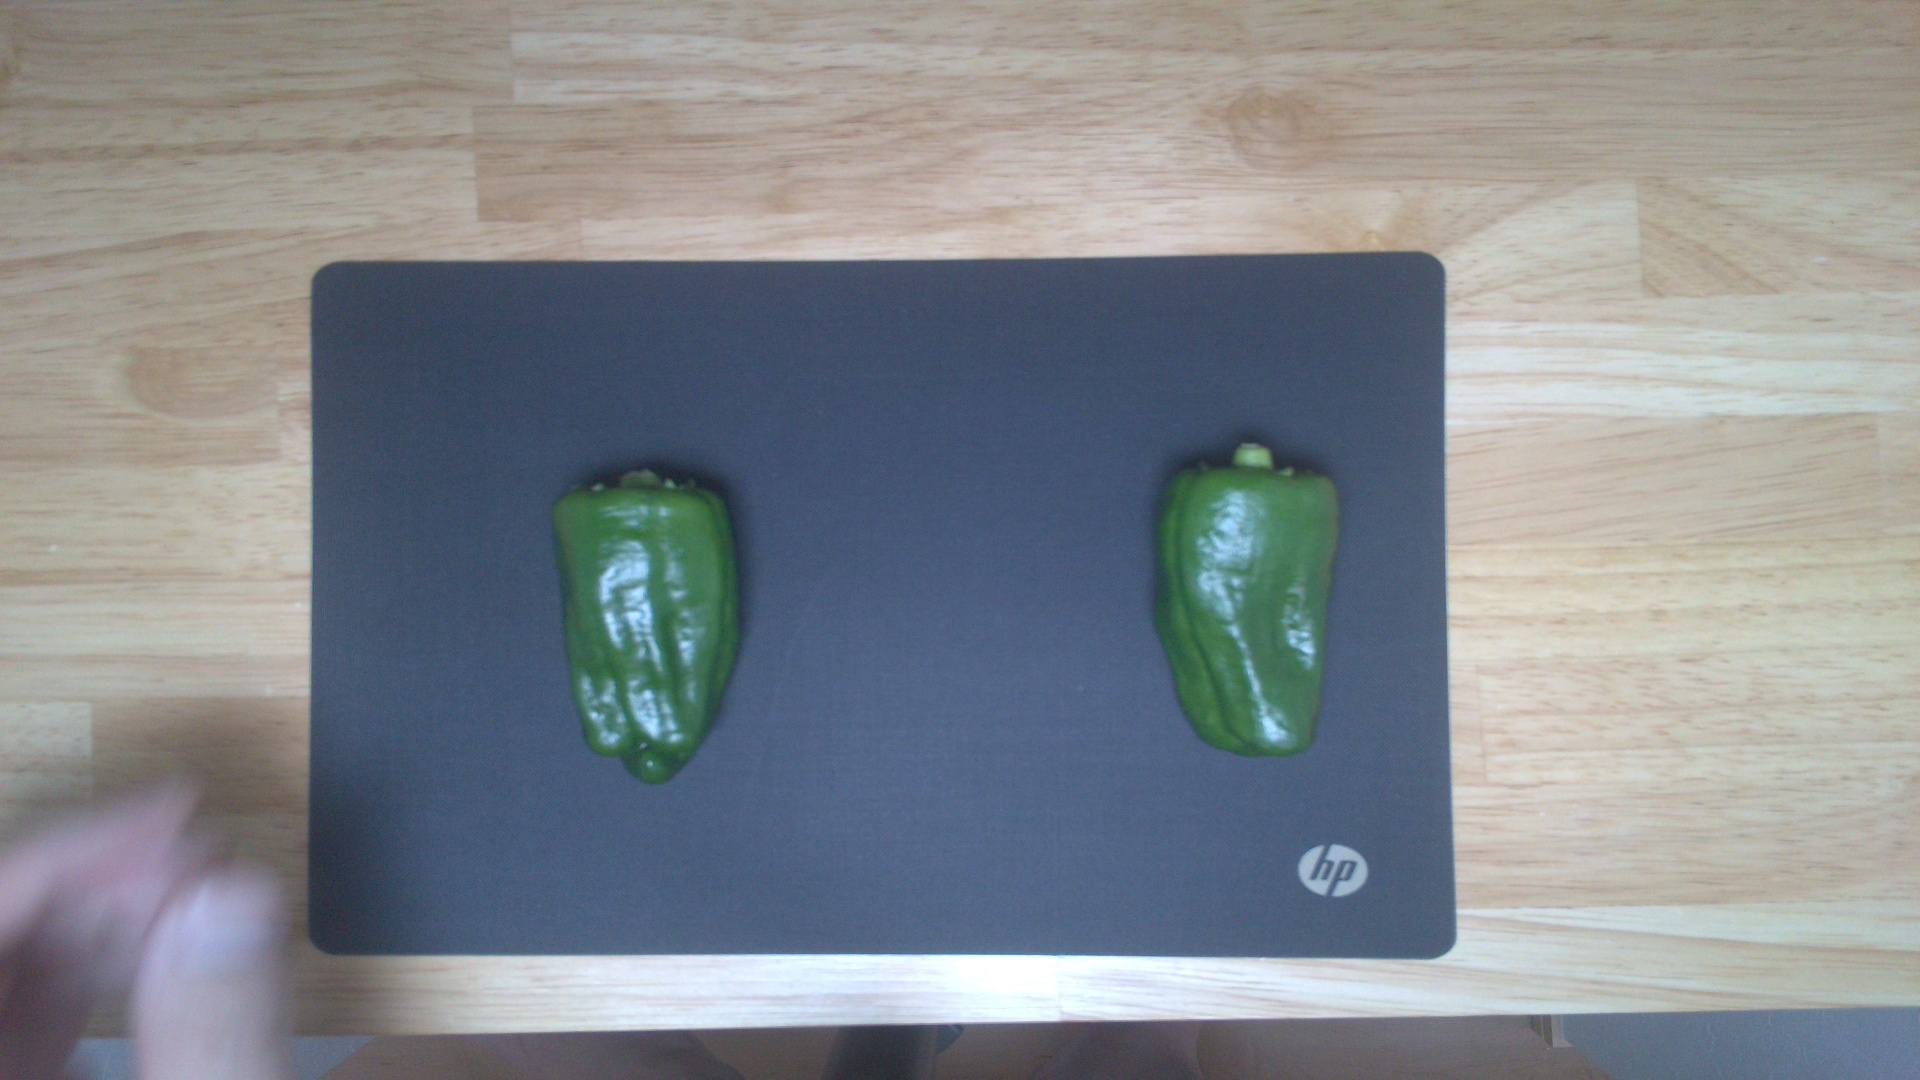Piman: (545, 463, 749, 783), (1151, 440, 1341, 760)
